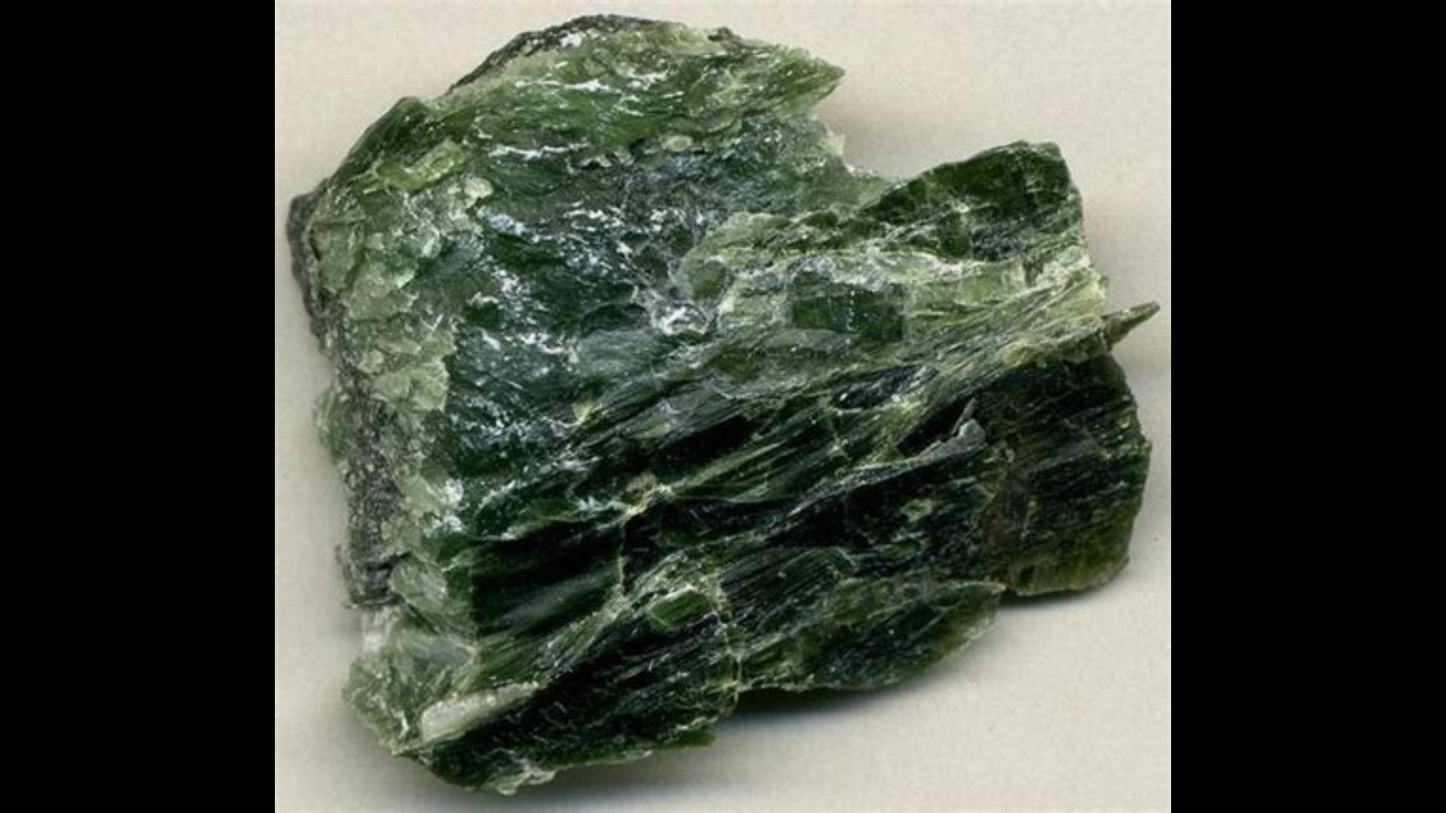rock: (290, 17, 1153, 792)
